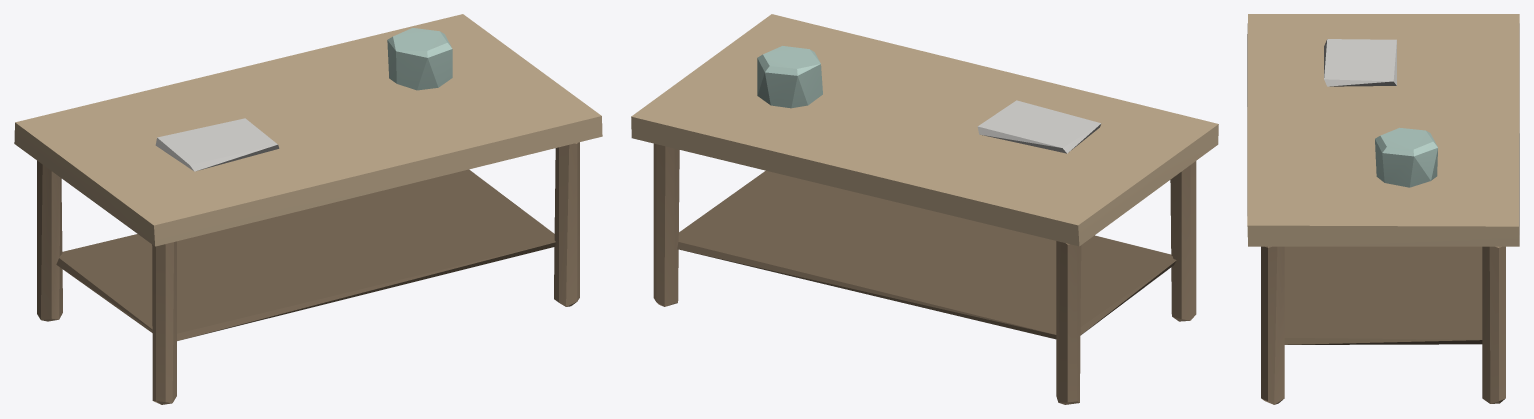
The model's file is furn_coffee_table__oak_low.glb.
3 views of the same model, side by side, from view 1: azimuth 30°, elevation 25°; view 2: azimuth 150°, elevation 25°; view 3: azimuth 270°, elevation 25° (orthographic). The views are drawn at different scales.
Size of the model in its own units: 1.09 by 0.5402 by 0.5904.
